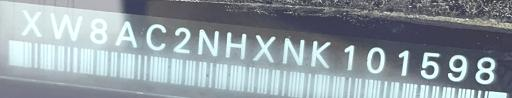letter: (48, 10, 84, 43), (18, 5, 46, 38), (250, 31, 278, 63), (112, 19, 140, 50), (280, 36, 306, 68), (196, 26, 220, 58), (308, 38, 332, 70), (224, 28, 246, 62), (418, 49, 442, 79), (144, 20, 168, 50), (472, 55, 496, 84), (88, 15, 110, 46), (364, 45, 386, 75), (171, 25, 193, 55), (448, 53, 468, 82), (395, 47, 411, 79), (342, 43, 356, 73)
